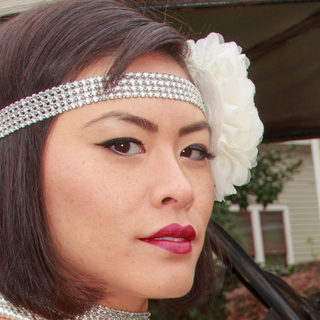eye: (87, 123, 149, 167), (172, 132, 217, 172)
